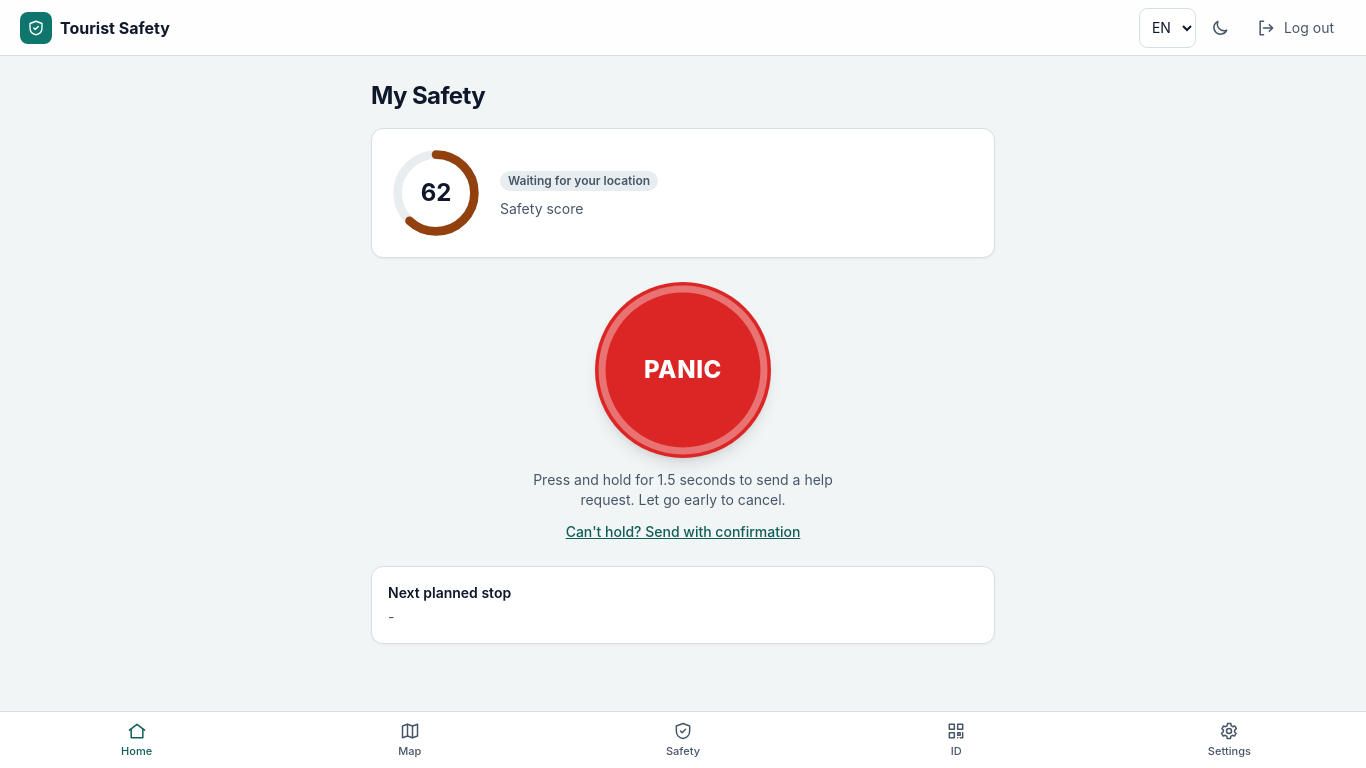
Scenario: cancel refused by the server explains why
Expected: the heading "My Safety" is shown, [371, 80, 485, 112]
Expected: the text "Waiting for your location" is shown, [500, 171, 658, 191]
Click the button "Can't hold? Send with confirmation".
click(683, 532)  # box [566, 522, 800, 542]
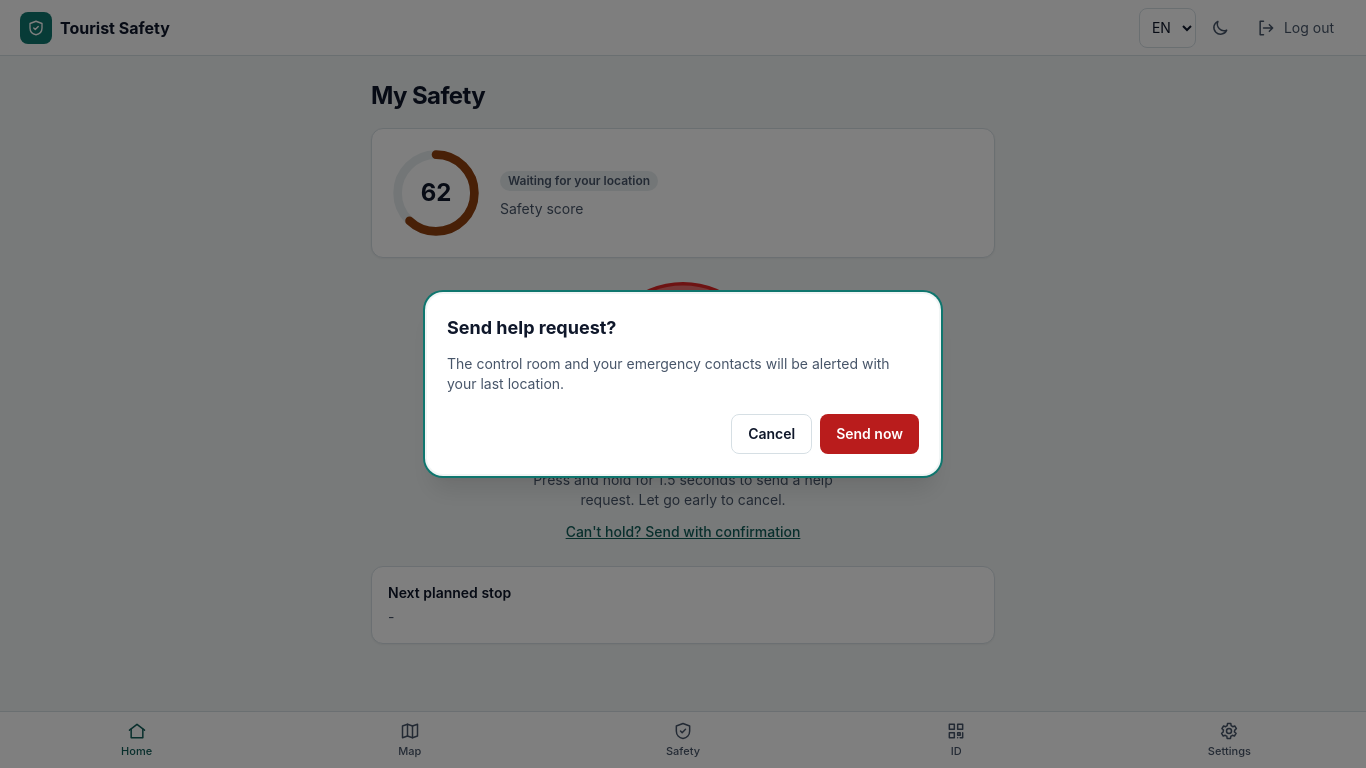
Click the button "Send now".
click(870, 434)  # box [820, 414, 919, 454]
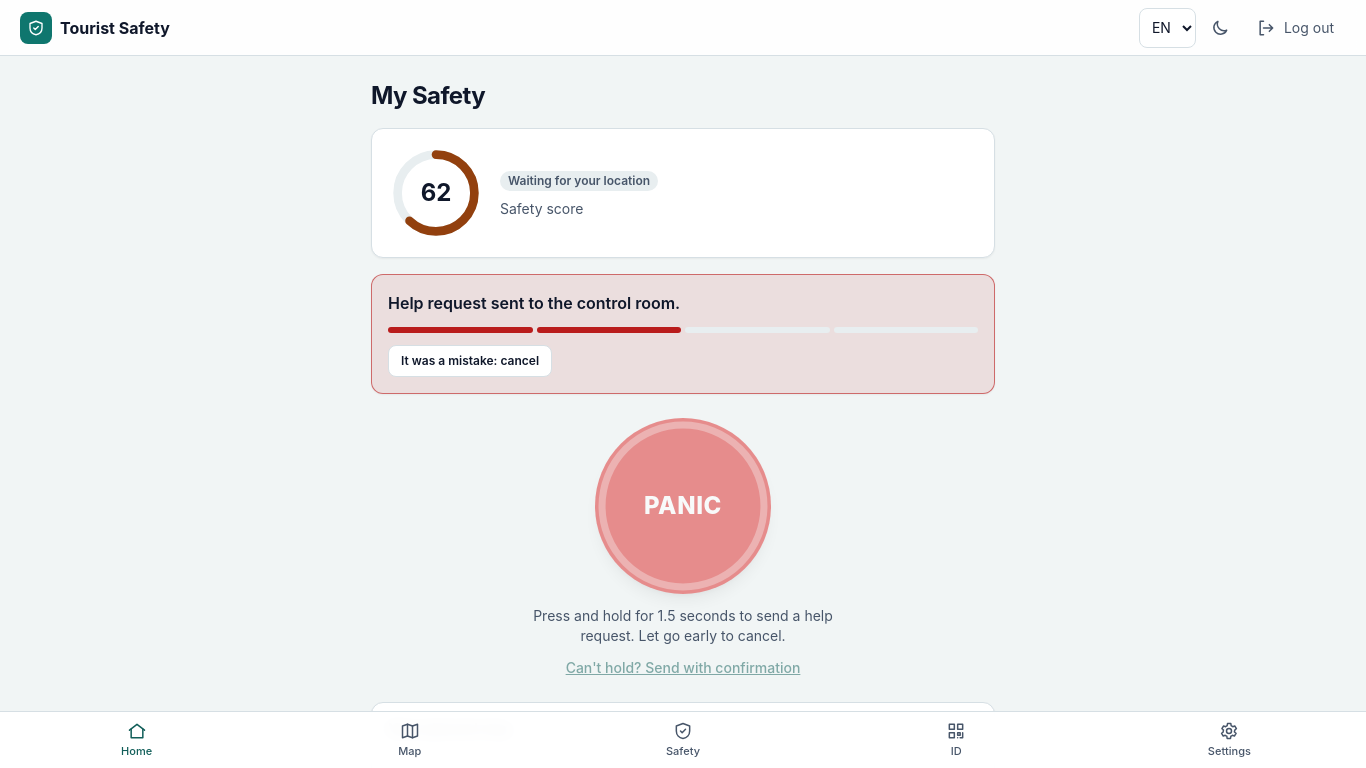
Click the button "It was a mistake: cancel".
click(470, 361)  # box [388, 345, 552, 377]
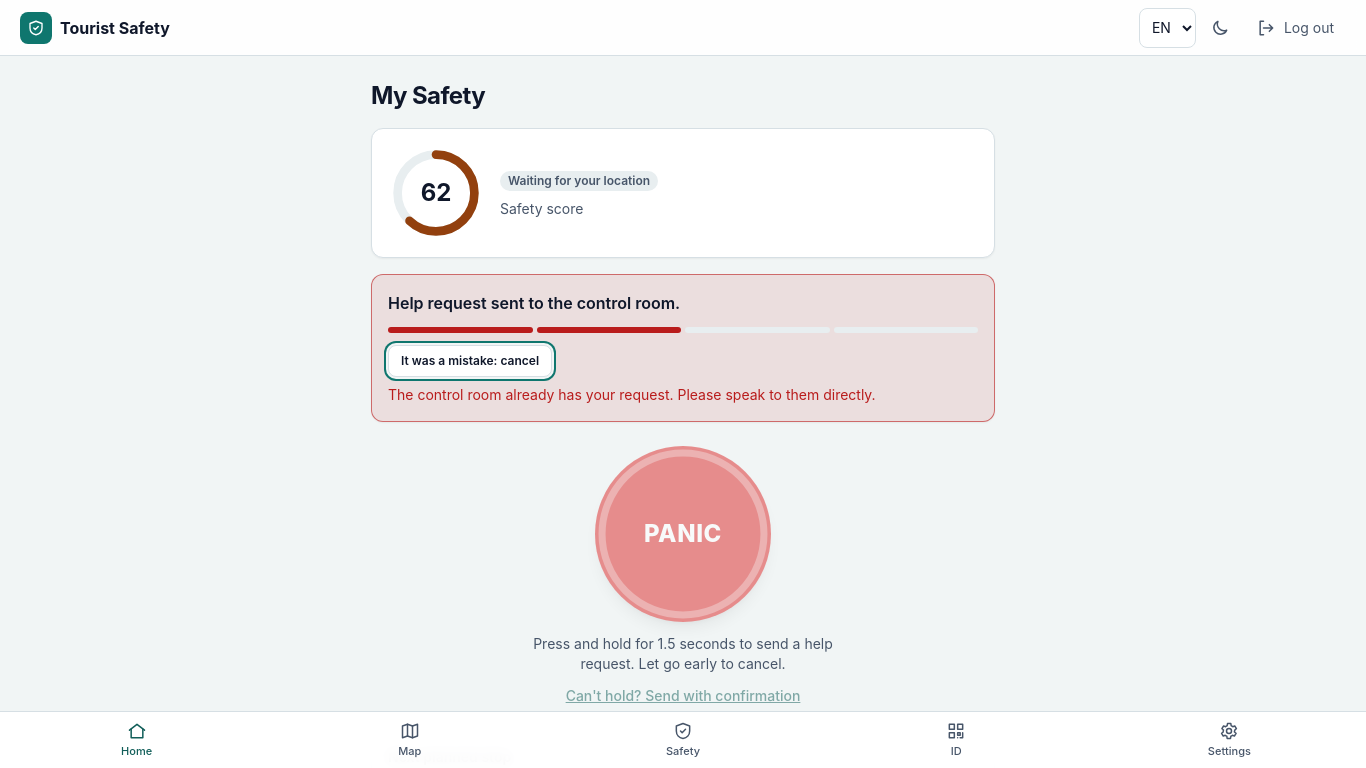
Now the text "The control room already has your request. Please speak to them directly." is shown, box [388, 386, 876, 403]
